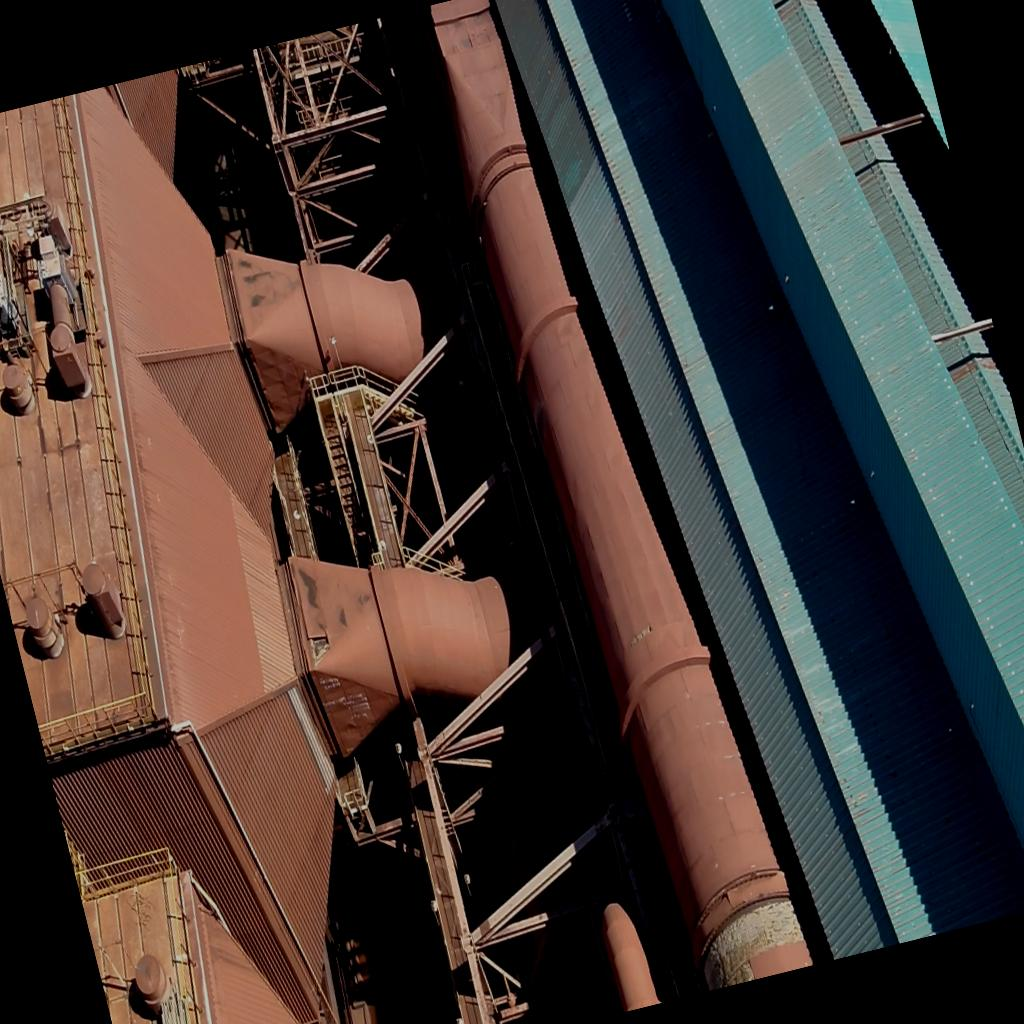Failures: (683, 881, 828, 990), (302, 622, 339, 672)
